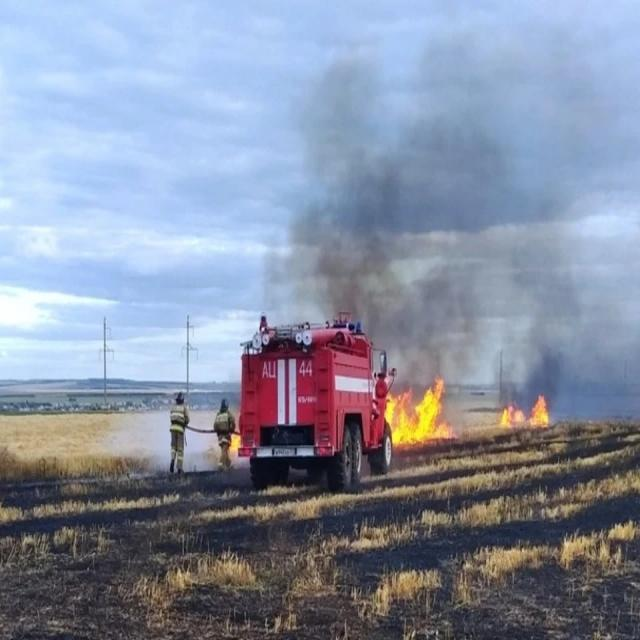Fire: (385, 380, 443, 444), (528, 394, 548, 426)
Smoke: (284, 13, 634, 414)
